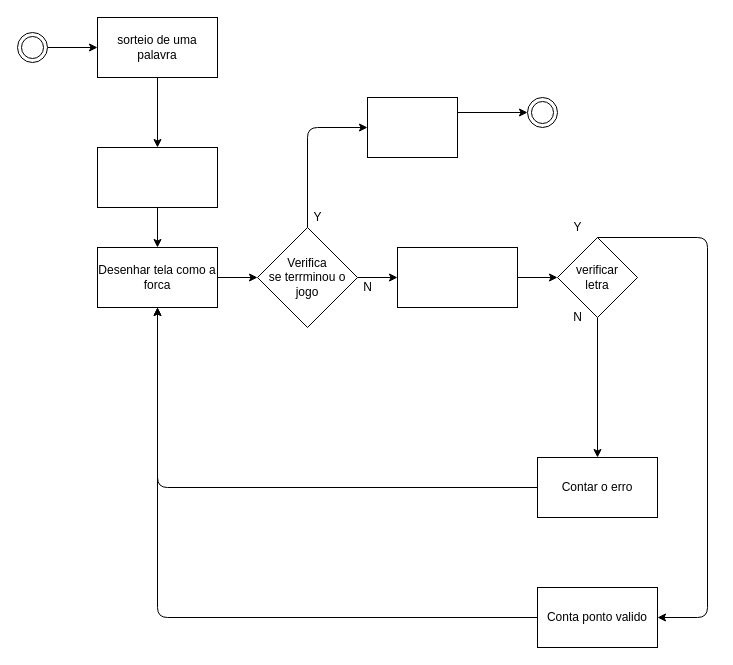
The diagram is 733 pixels wide and 665 high, and some of its shapes have lost their labels. The centre of each missing label's shape, as x and y in pixels:
"Definir a quantidade de letras" belongs at point 157,177.
"Finalizar" belongs at point 412,127.
"Receber letra do usuario" belongs at point 457,277.
